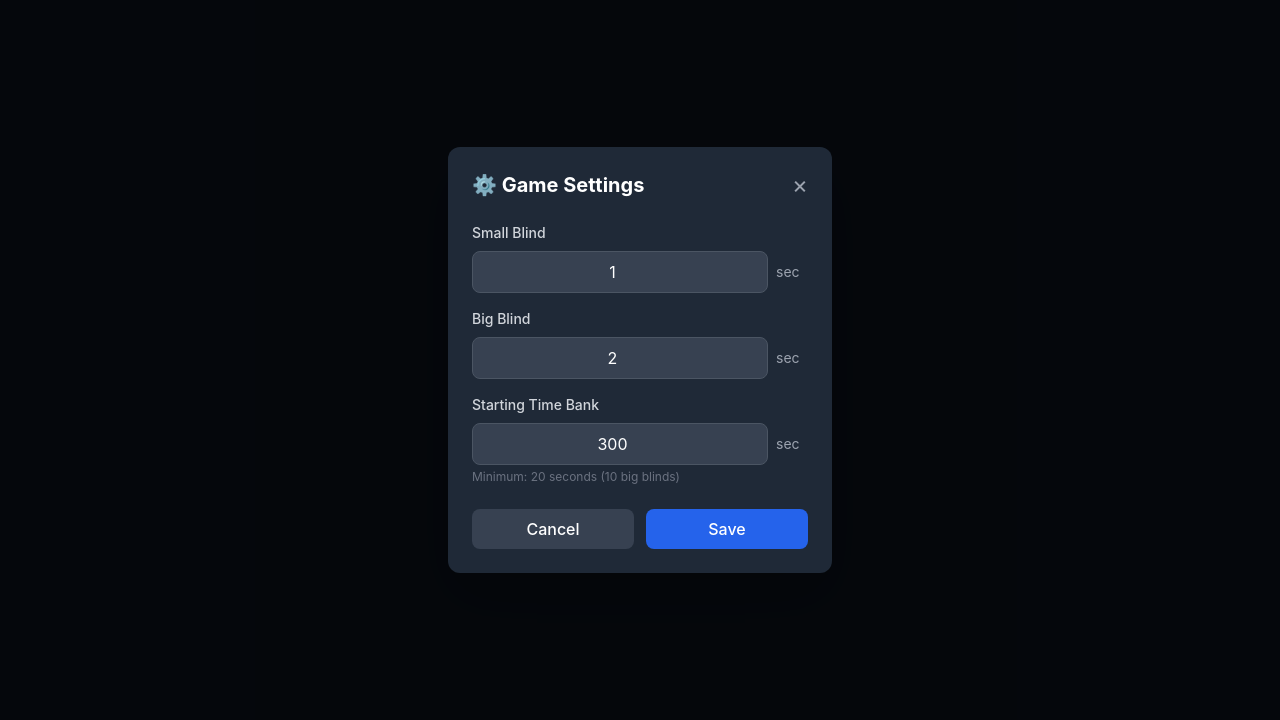
Test: SettingsModal › inputs › should auto-adjust big blind when small blind exceeds it
Expected: the 2nd number field holds "2", [472,337,768,379]
# Set small blind higher than big blind
Replace the text in the number field below "Small Blind" with "5" at (620, 272), box [472,251,768,293]
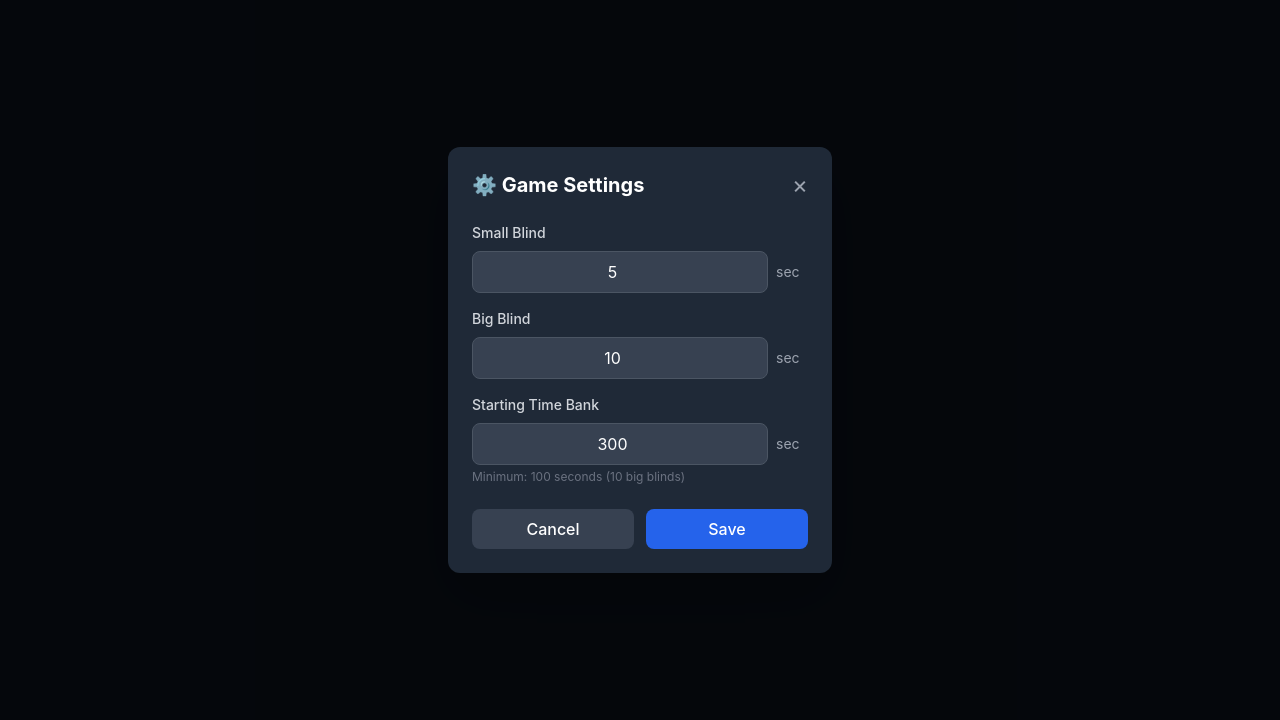
Result: the 2nd number field holds "10" at [472,337,768,379]
